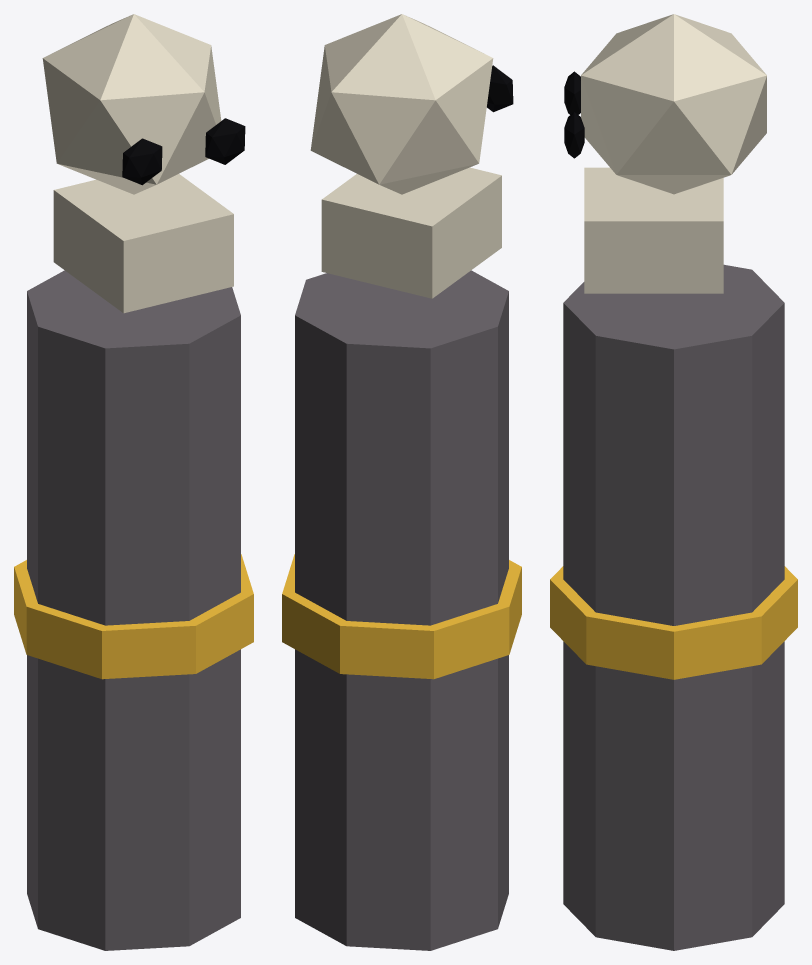
Rendered from Prop_OR_SkullTotem_00.glb.
3 views of the same model, side by side, from view 1: azimuth 30°, elevation 25°; view 2: azimuth 150°, elevation 25°; view 3: azimuth 270°, elevation 25° (orthographic).
Visible parts, largest first — view 1: Prop_OR_SkullTotem_00; view 2: Prop_OR_SkullTotem_00; view 3: Prop_OR_SkullTotem_00.
Boxes of the visible parts, x1,y1,x2,y2 form: Prop_OR_SkullTotem_00: (14, 14, 253, 950); Prop_OR_SkullTotem_00: (282, 14, 521, 950); Prop_OR_SkullTotem_00: (550, 14, 797, 950).
Bounding box in the file's own units: 0.56 × 2.22 × 0.56.
